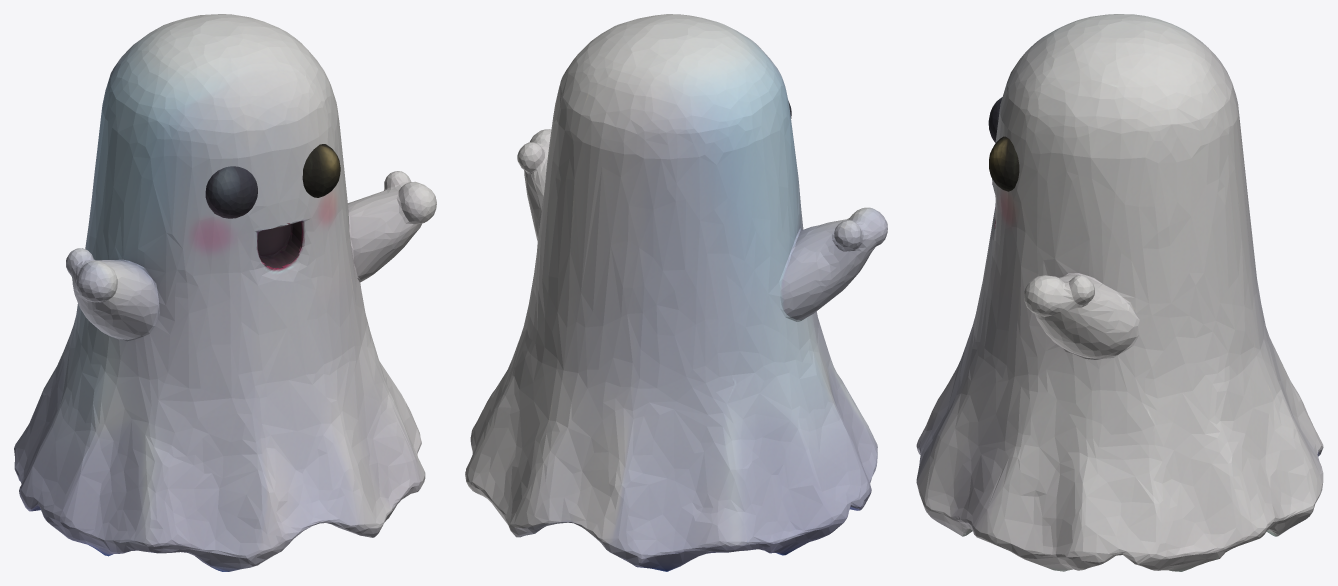
File: ghost.glb
3 views of the same model, side by side, from view 1: azimuth 30°, elevation 25°; view 2: azimuth 150°, elevation 25°; view 3: azimuth 270°, elevation 25° (orthographic).
Parts seen in each view (by area): view 1: Ghost_body, Ghost_eyes, Ghost_mouth; view 2: Ghost_body; view 3: Ghost_body, Ghost_eyes.
Boxes of the visible parts, box(x1,y1,x2,y2) form: Ghost_body: box(14, 14, 436, 571); Ghost_eyes: box(205, 144, 340, 218); Ghost_mouth: box(257, 222, 301, 268); Ghost_body: box(465, 14, 887, 571); Ghost_body: box(916, 14, 1323, 571); Ghost_eyes: box(988, 97, 1019, 191).
Size of the model in its own units: 4.2 by 5.11 by 4.
Materials: 3 (3 with a texture image).
